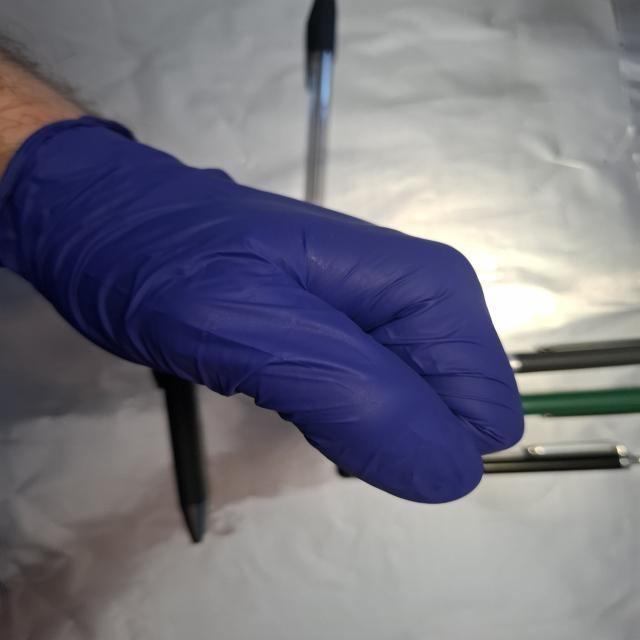glove_on: (3, 111, 530, 508)
